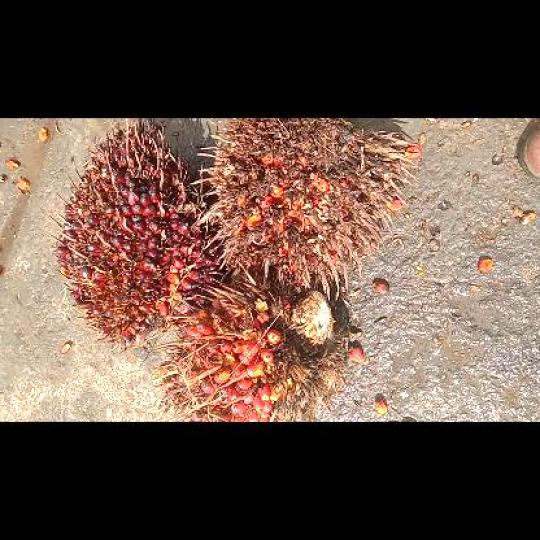masak: (49, 118, 224, 352), (149, 260, 347, 420)
terlalu masak: (189, 117, 419, 298)
